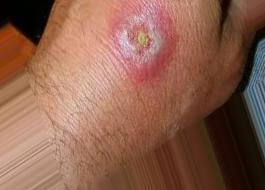Spider: (114, 0, 178, 84)
